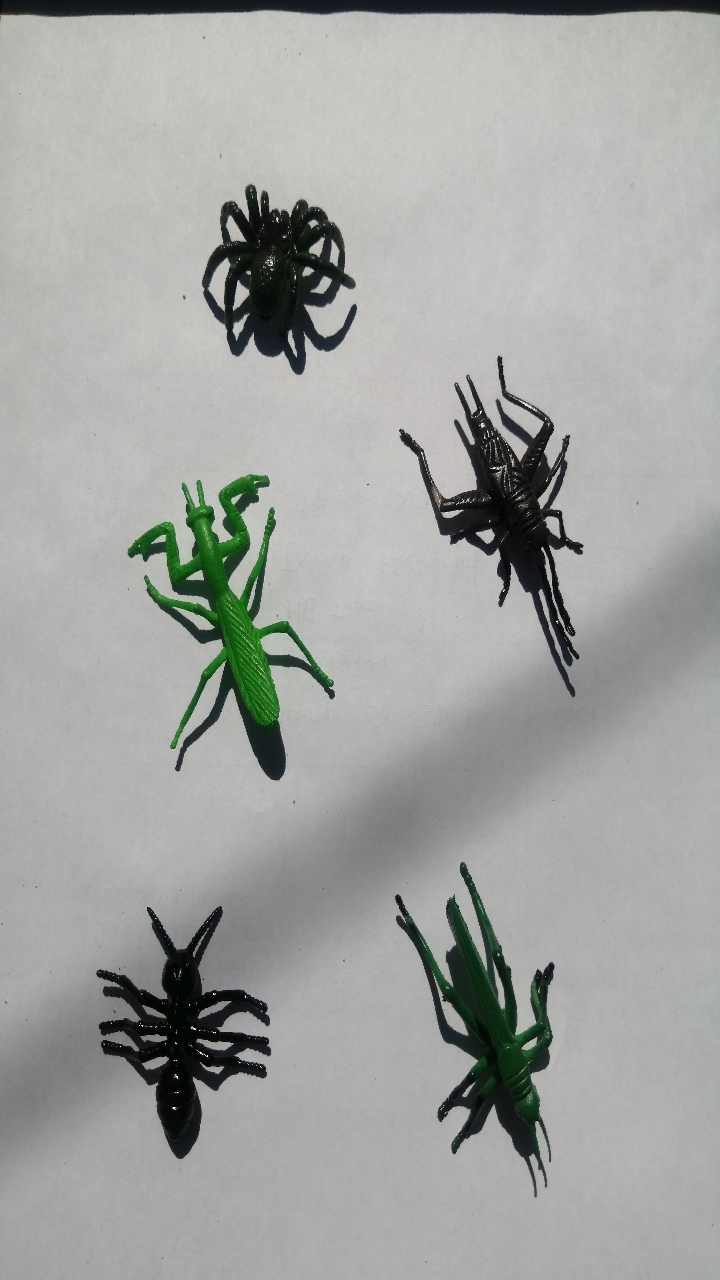intruso: (389, 320, 606, 711), (89, 449, 343, 779), (369, 820, 580, 1208), (74, 863, 317, 1182), (183, 131, 383, 382)
